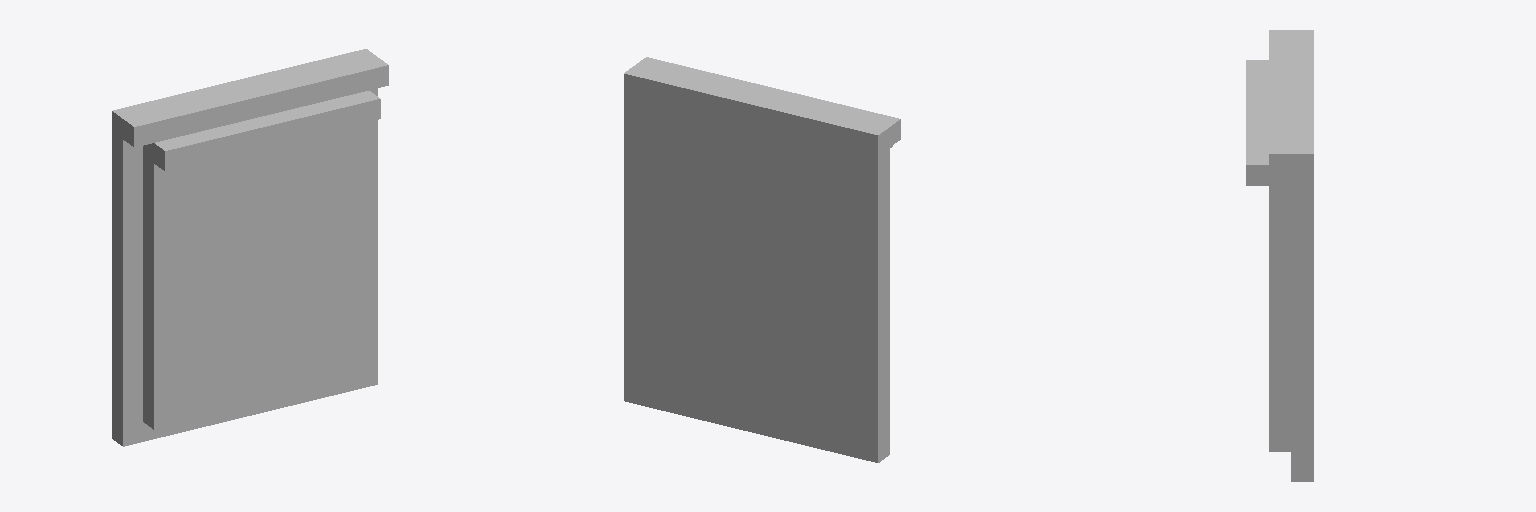
Rendered from Work Schedule.obj.
3 views of the same model, side by side, from view 1: azimuth 30°, elevation 25°; view 2: azimuth 150°, elevation 25°; view 3: azimuth 270°, elevation 25° (orthographic).
Visible parts, largest first — view 1: Model; view 2: Model; view 3: Model.
Part boxes in pixels (x1,y1,x2,y2): Model: (112, 49, 388, 446); Model: (624, 57, 900, 462); Model: (1246, 30, 1313, 481).
Size of the model in its own units: 26 by 32 by 6.